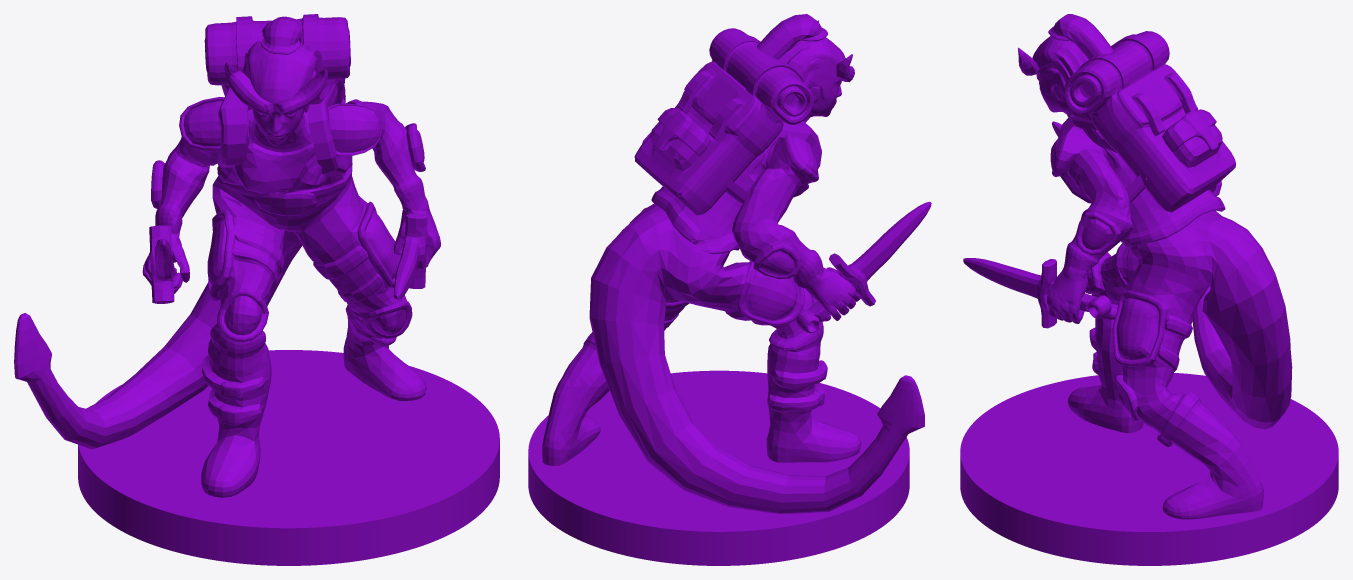
File: Shaedra2.fbx
The picture shows the model from 3 angles, left to right: view 1: azimuth 30°, elevation 25°; view 2: azimuth 150°, elevation 25°; view 3: azimuth 270°, elevation 25°; orthographic projection. The views are drawn at different scales.
Parts seen in each view (by area): view 1: Tiefling Femalle Rogue; view 2: Tiefling Femalle Rogue; view 3: Tiefling Femalle Rogue.
Part boxes in pixels (x1,y1,x2,y2): Tiefling Femalle Rogue: [14, 14, 499, 565]; Tiefling Femalle Rogue: [528, 14, 931, 565]; Tiefling Femalle Rogue: [960, 14, 1338, 565].
Size of the model in its own units: 2996 by 3293 by 2524.
